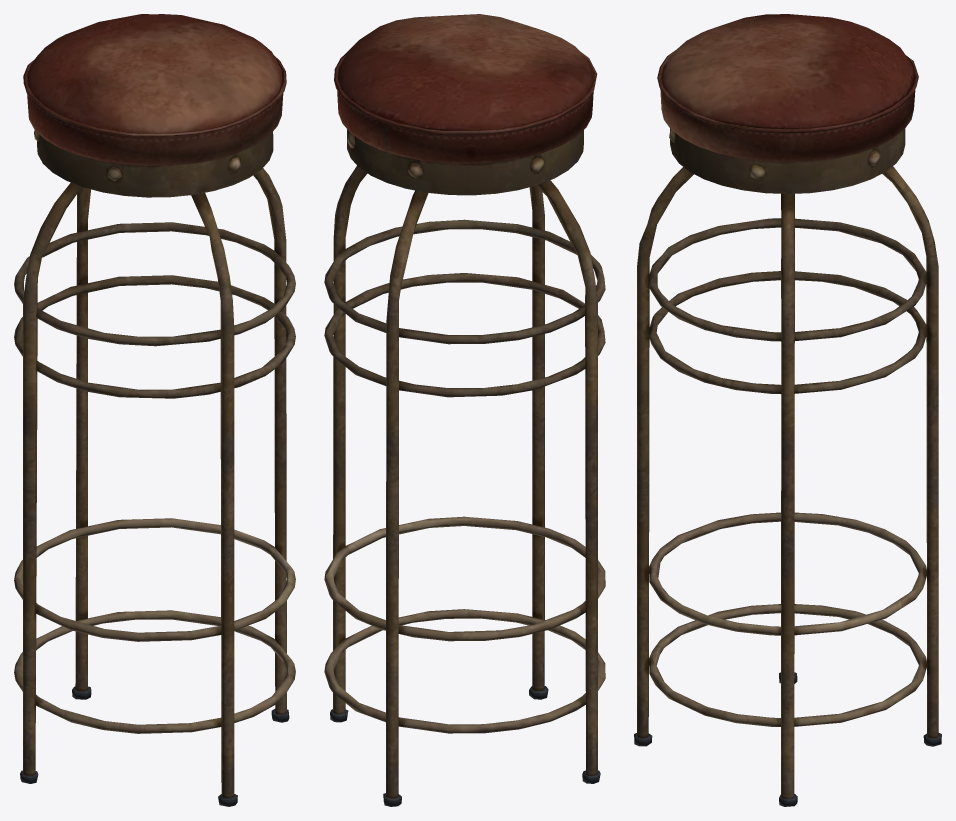
File: metal_stool_01.glb
3 views of the same model, side by side, from view 1: azimuth 30°, elevation 25°; view 2: azimuth 150°, elevation 25°; view 3: azimuth 270°, elevation 25° (orthographic).
Parts seen in each view (by area): view 1: metal_stool_01; view 2: metal_stool_01; view 3: metal_stool_01.
Boxes of the visible parts, <box> form: metal_stool_01: <box>14,14,295,806</box>; metal_stool_01: <box>324,14,605,806</box>; metal_stool_01: <box>634,14,941,806</box>.
Bounding box in the file's own units: 0.3514 × 0.8822 × 0.353.
1 material, 1 textured.
